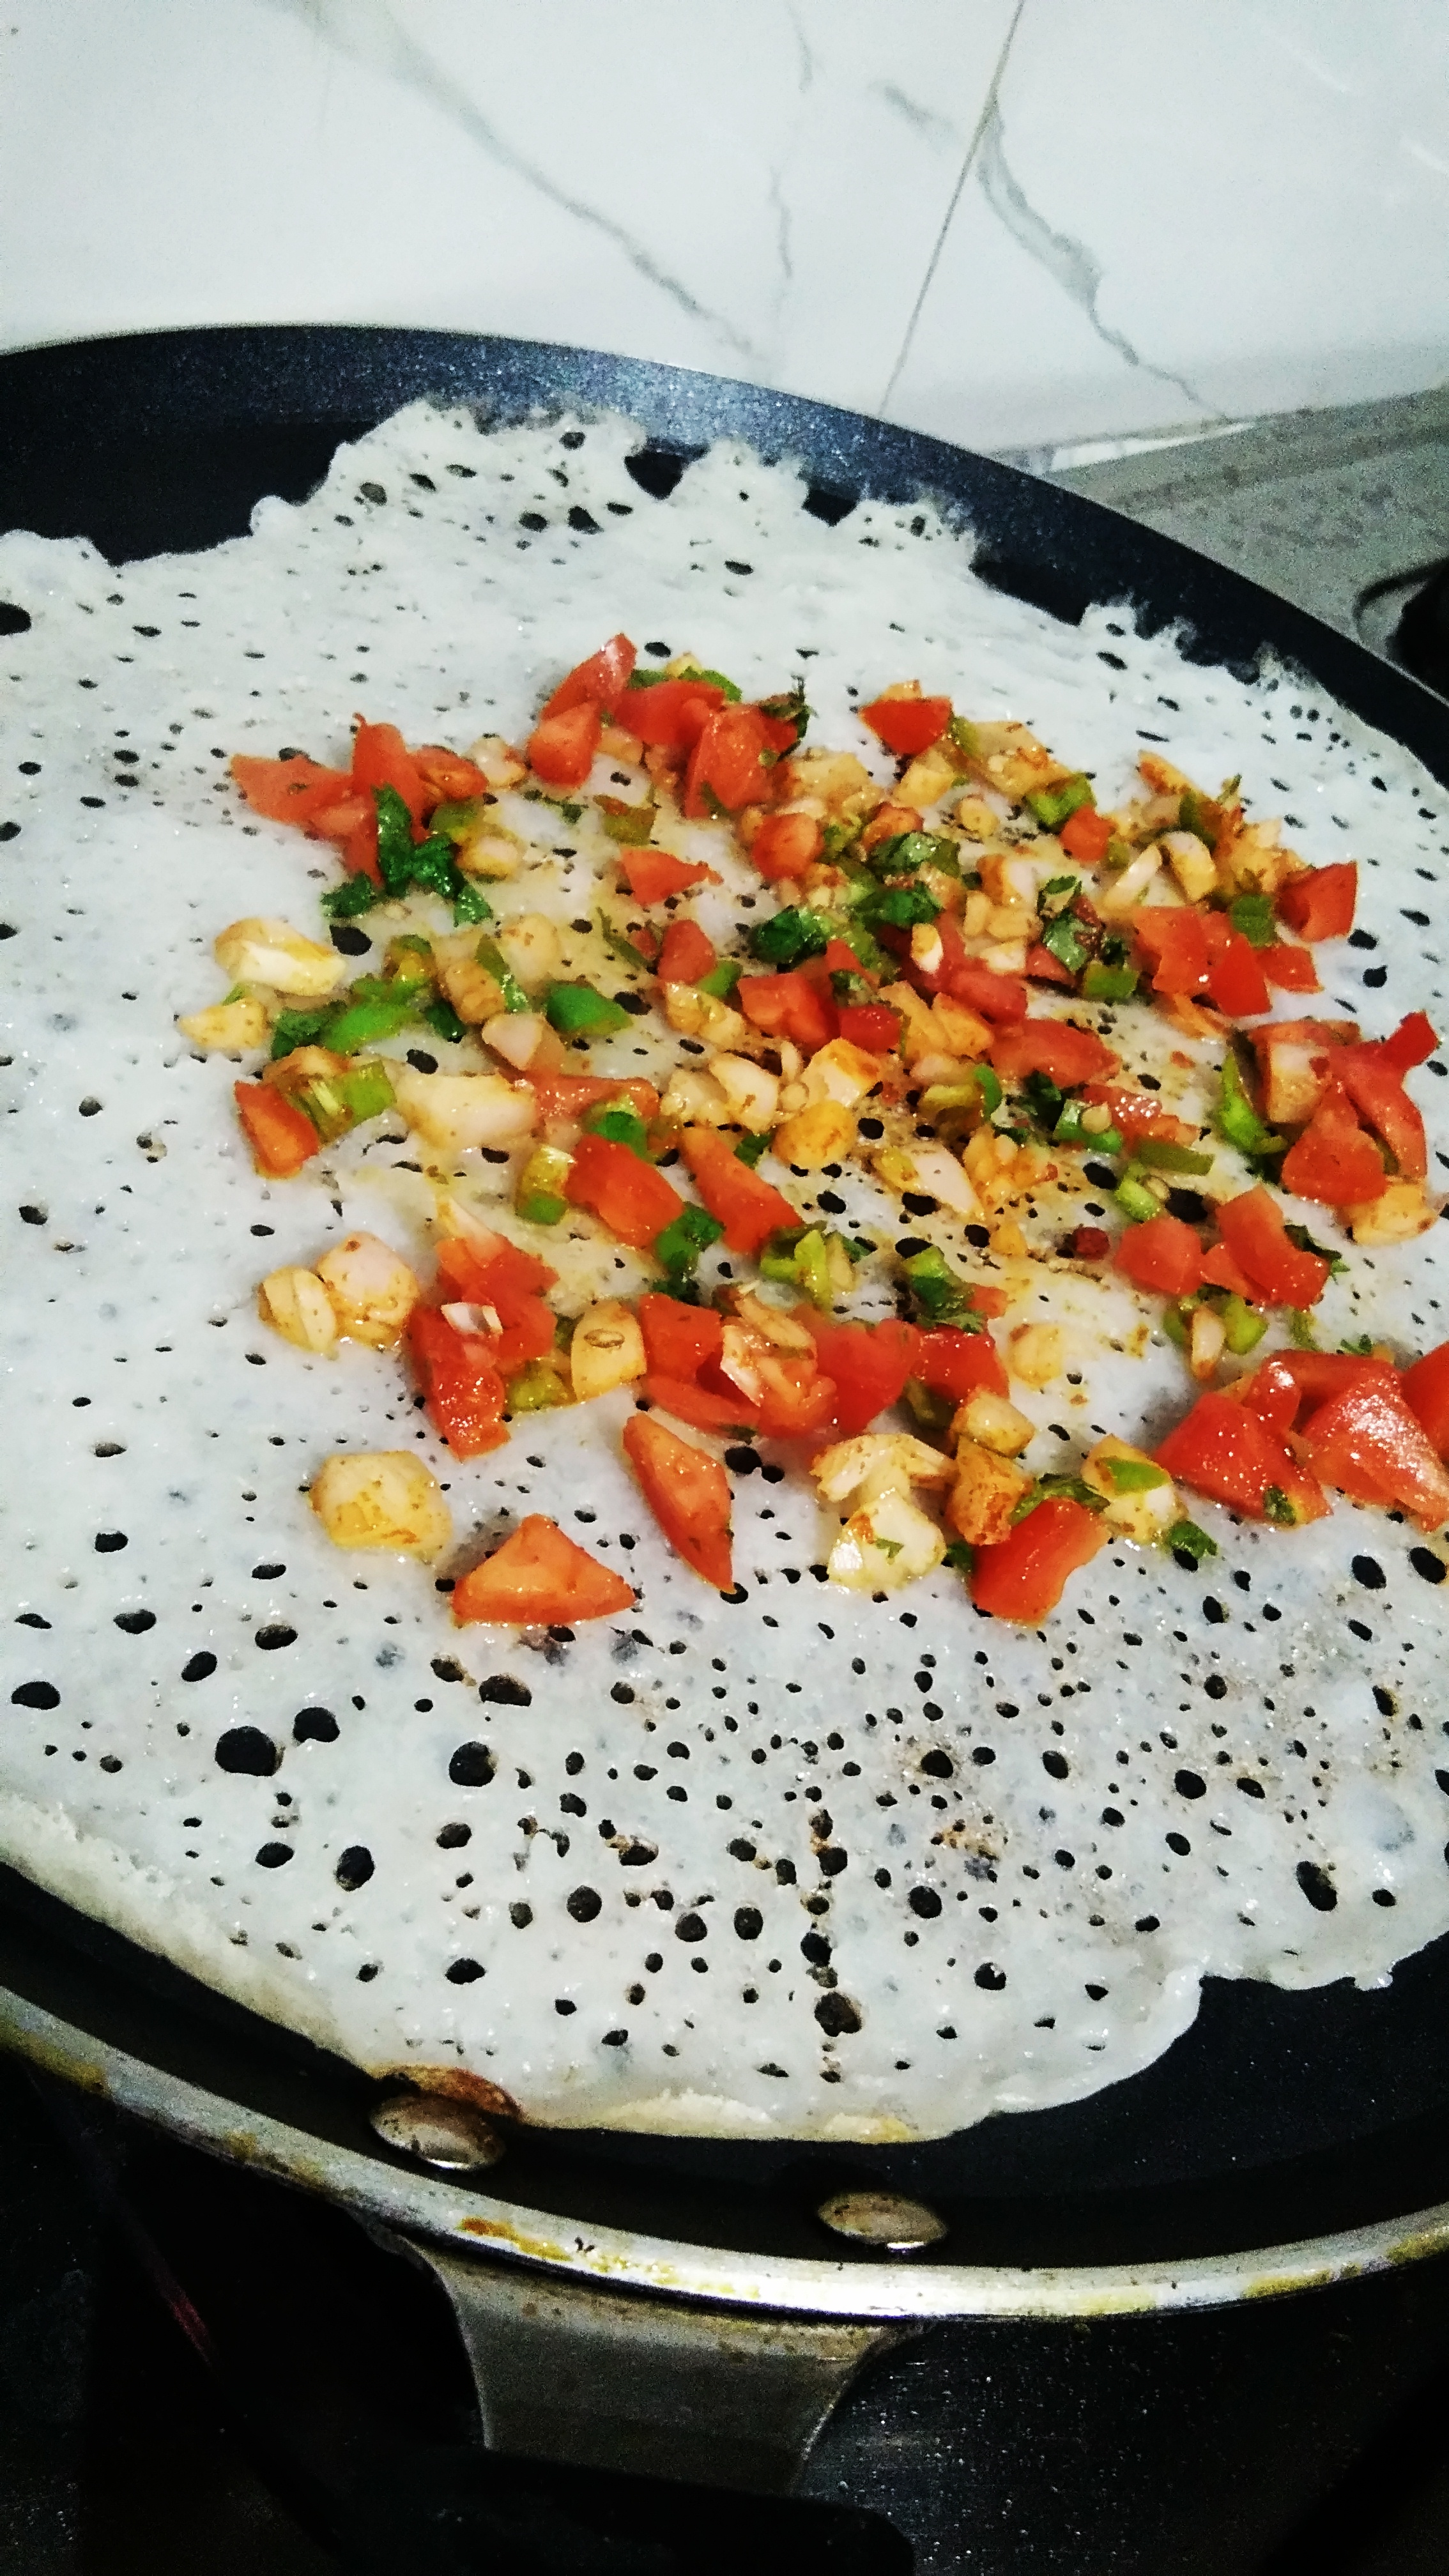food: (0, 386, 1449, 2158)
